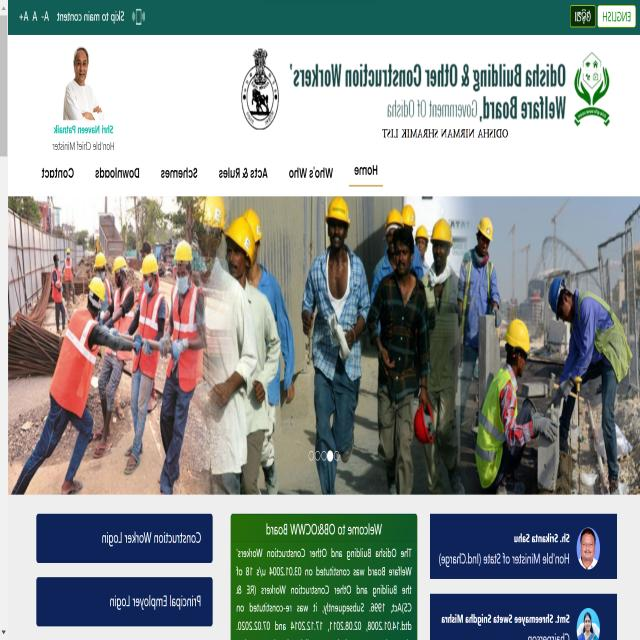Reflective-Jacket: (474, 364, 519, 488), (50, 310, 100, 417), (574, 289, 634, 378), (168, 280, 204, 385), (460, 254, 499, 339), (137, 290, 164, 374), (114, 283, 134, 366), (52, 268, 62, 300), (64, 260, 74, 284)
Safety-Helmet: (225, 206, 264, 263), (546, 272, 570, 322), (504, 315, 532, 356), (200, 193, 227, 230), (324, 195, 352, 226), (575, 606, 603, 636), (430, 216, 454, 246), (173, 238, 193, 264), (477, 214, 495, 242), (384, 205, 404, 229), (140, 251, 159, 276), (89, 276, 106, 302), (402, 202, 416, 226), (112, 254, 128, 274), (415, 222, 429, 241), (93, 250, 107, 269), (74, 46, 90, 61), (52, 250, 59, 260), (66, 247, 72, 256)
